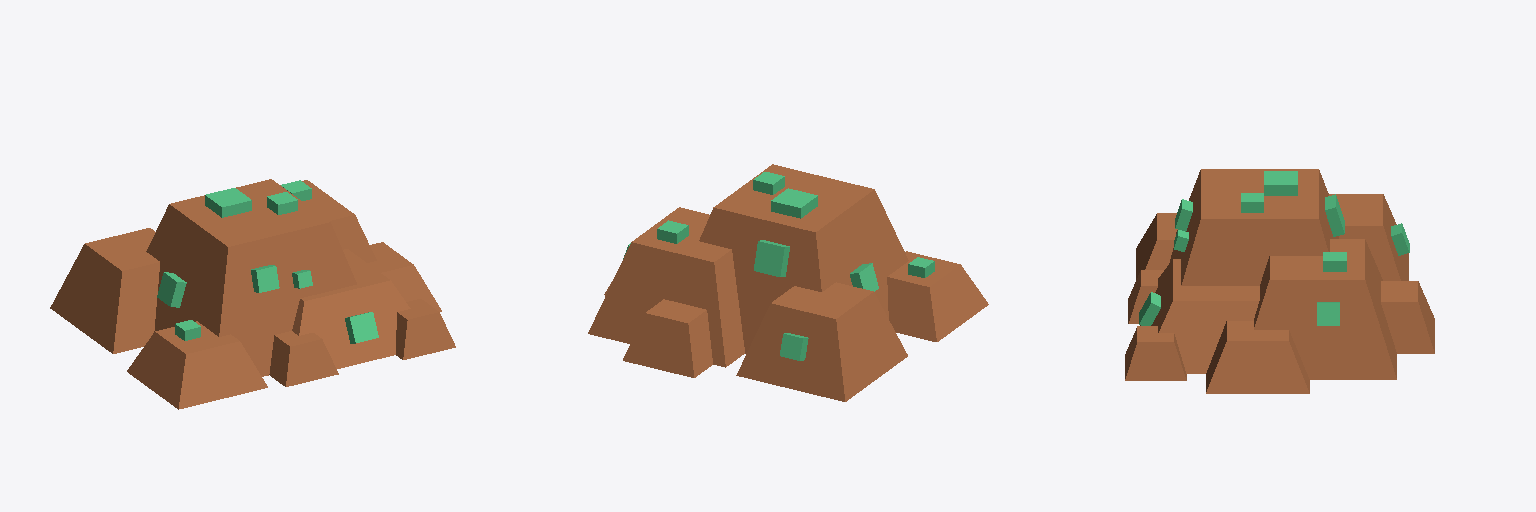
Rendered from rocksOre.obj.
3 renders of one model, left to right at view 1: azimuth 30°, elevation 25°; view 2: azimuth 150°, elevation 25°; view 3: azimuth 270°, elevation 25°, orthographic.
Parts seen in each view (by area): view 1: rocksOre; view 2: rocksOre; view 3: rocksOre.
Boxes of the visible parts, x1,y1,x2,y2 form: rocksOre: [50, 179, 455, 409]; rocksOre: [588, 164, 988, 401]; rocksOre: [1125, 169, 1434, 393].
Bounding box in the file's own units: 8.93 × 3.7 × 8.03.